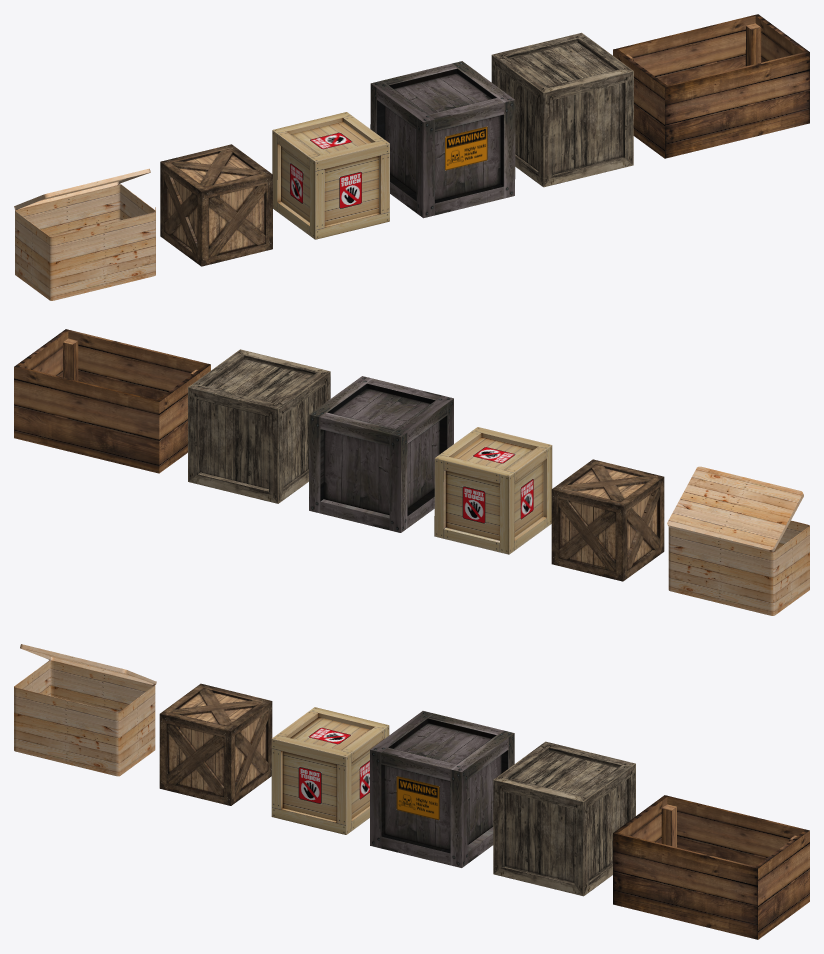
The model's file is wooden_boxes_and_crates_kit.glb.
The picture shows the model from 3 angles, top to bottom: view 1: azimuth 30°, elevation 25°; view 2: azimuth 150°, elevation 25°; view 3: azimuth 330°, elevation 25°; orthographic projection.
Visible parts, largest first — view 1: Box6 by Jungle Jim, Box2 by Jungle Jim, Box5 by Jungle Jim, Box4 by Jungle Jim, Box1 by Jungle Jim, Box3 by Jungle Jim, Lid; view 2: Box6 by Jungle Jim, Box2 by Jungle Jim, Box5 by Jungle Jim, Box1 by Jungle Jim, Box3 by Jungle Jim, Box4 by Jungle Jim, Lid; view 3: Box6 by Jungle Jim, Box2 by Jungle Jim, Box5 by Jungle Jim, Box4 by Jungle Jim, Box3 by Jungle Jim, Box1 by Jungle Jim, Lid.
Boxes of the visible parts, x1=… form: Box6 by Jungle Jim: x1=613, y1=14, x2=809, y2=158; Box2 by Jungle Jim: x1=370, y1=61, x2=515, y2=218; Box5 by Jungle Jim: x1=491, y1=32, x2=633, y2=187; Box4 by Jungle Jim: x1=15, y1=184, x2=155, y2=300; Box1 by Jungle Jim: x1=272, y1=112, x2=389, y2=239; Box3 by Jungle Jim: x1=160, y1=144, x2=272, y2=266; Lid: x1=14, y1=168, x2=150, y2=209; Box6 by Jungle Jim: x1=14, y1=329, x2=210, y2=473; Box2 by Jungle Jim: x1=309, y1=376, x2=453, y2=532; Box5 by Jungle Jim: x1=188, y1=349, x2=330, y2=503; Box1 by Jungle Jim: x1=434, y1=427, x2=552, y2=554; Box3 by Jungle Jim: x1=551, y1=459, x2=664, y2=581; Box4 by Jungle Jim: x1=668, y1=520, x2=809, y2=615; Lid: x1=667, y1=466, x2=803, y2=552; Box6 by Jungle Jim: x1=613, y1=795, x2=809, y2=939; Box2 by Jungle Jim: x1=370, y1=711, x2=514, y2=867; Box5 by Jungle Jim: x1=493, y1=741, x2=635, y2=896; Box4 by Jungle Jim: x1=14, y1=660, x2=155, y2=776; Box3 by Jungle Jim: x1=159, y1=683, x2=272, y2=805; Box1 by Jungle Jim: x1=271, y1=707, x2=389, y2=834; Lid: x1=20, y1=644, x2=156, y2=684.
Bounding box in the file's own units: 45.7 × 5.95 × 5.67.
8 materials, 8 textured.
